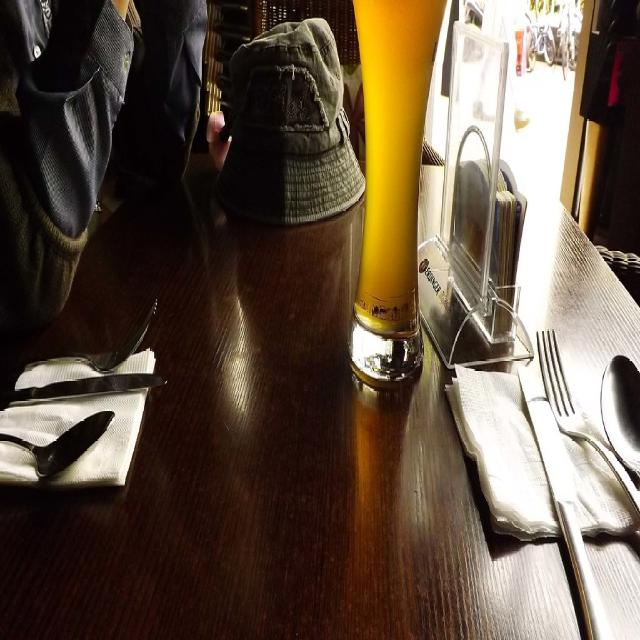Hat: (218, 18, 364, 220)
